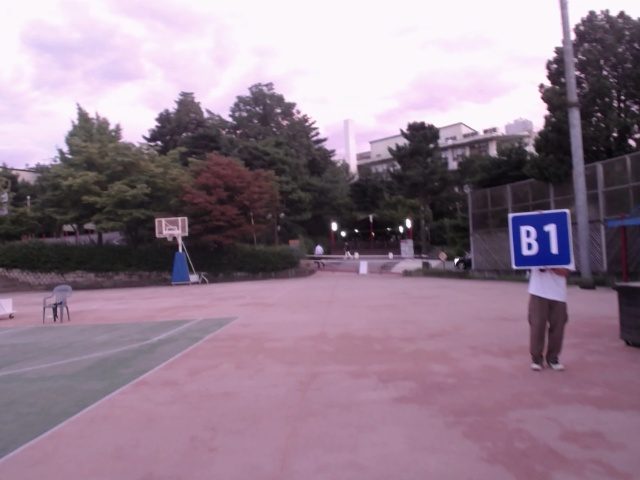delivery_b1: (509, 211, 573, 268)
